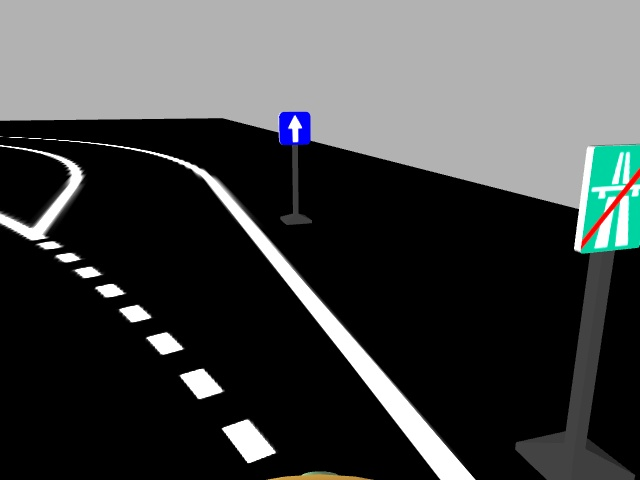HighwayExit: (568, 140, 639, 251)
OneWay: (276, 108, 313, 145)
